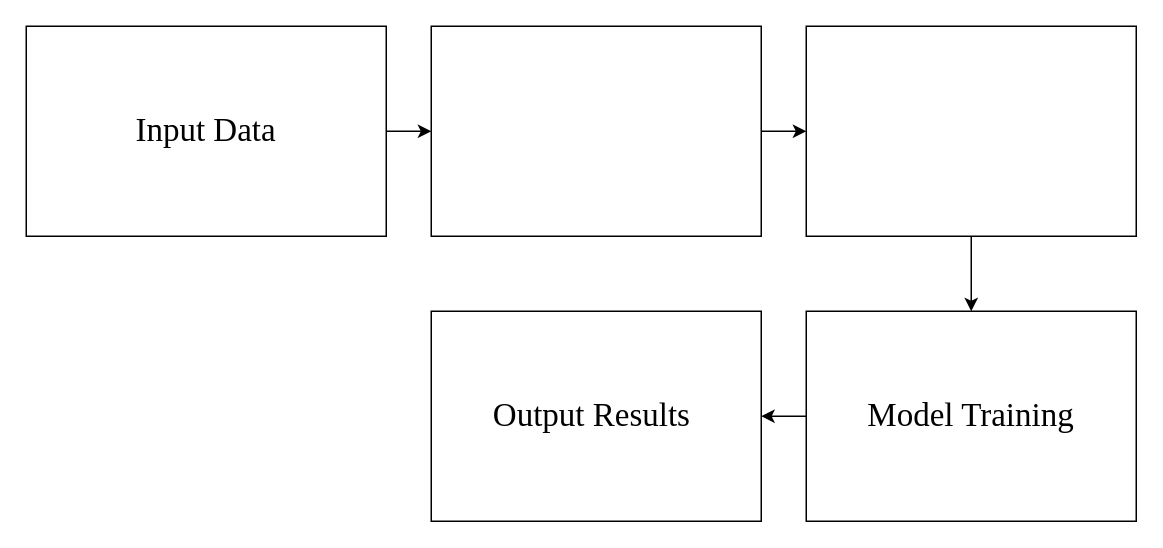
The diagram is 1163 pixels wide and 548 high, and some of its shapes have lost their labels. Each missing label, with the centre of its shape:
"Feature Extraction" goes at pixel 970 130.
"Preprocessing" goes at pixel 595 130.
